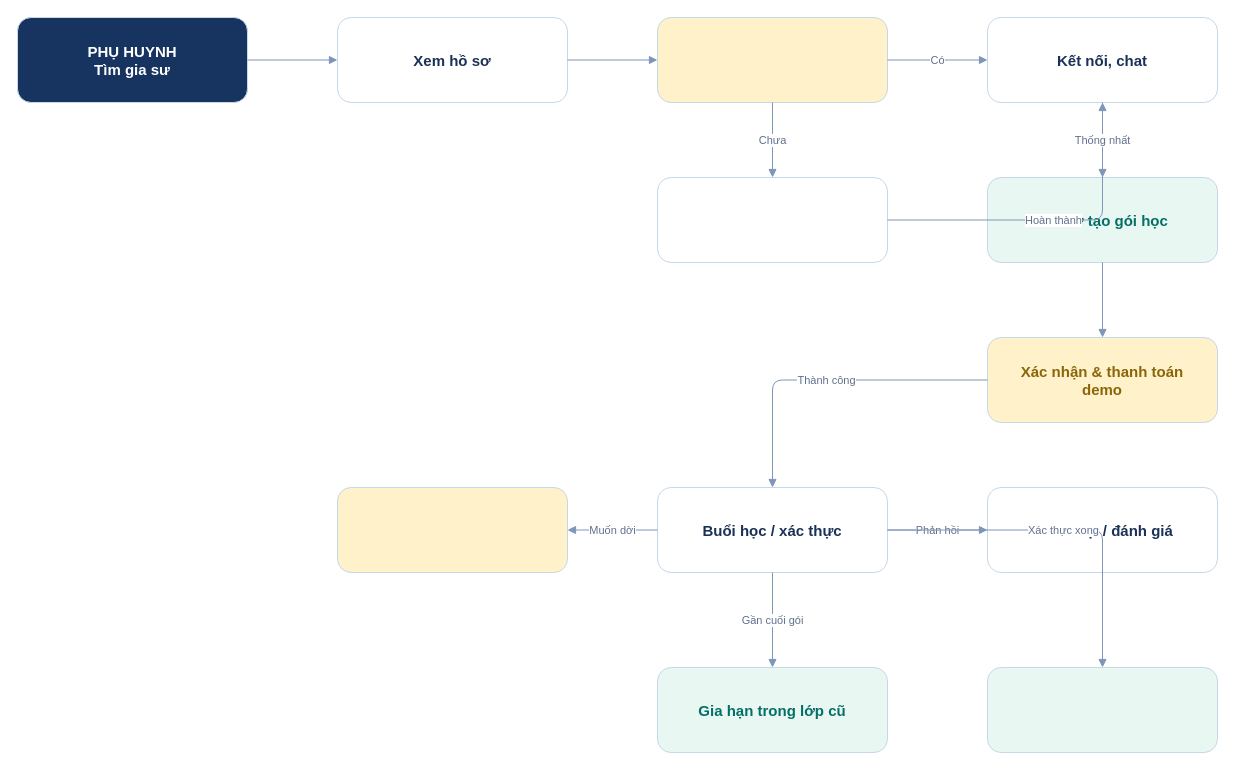
Some shapes in this 1235 by 770 pixel diagram are drawn without their labels. The box of each missing label's shape, as (x1, y1, x2, y2) in pixels:
Gia sư nhận số dư: (986, 666, 1218, 752)
Hủy/dời lịch trước 12h: (336, 486, 568, 572)
Đã có tài khoản?: (656, 16, 888, 102)
Đăng ký / đăng nhập: (656, 176, 888, 262)
